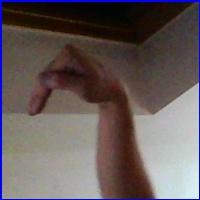A: (21, 40, 116, 123)
